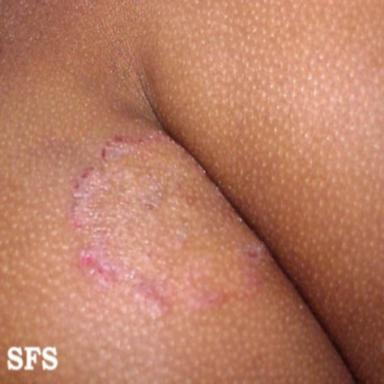Tinea-Corporis: (71, 131, 269, 318)
